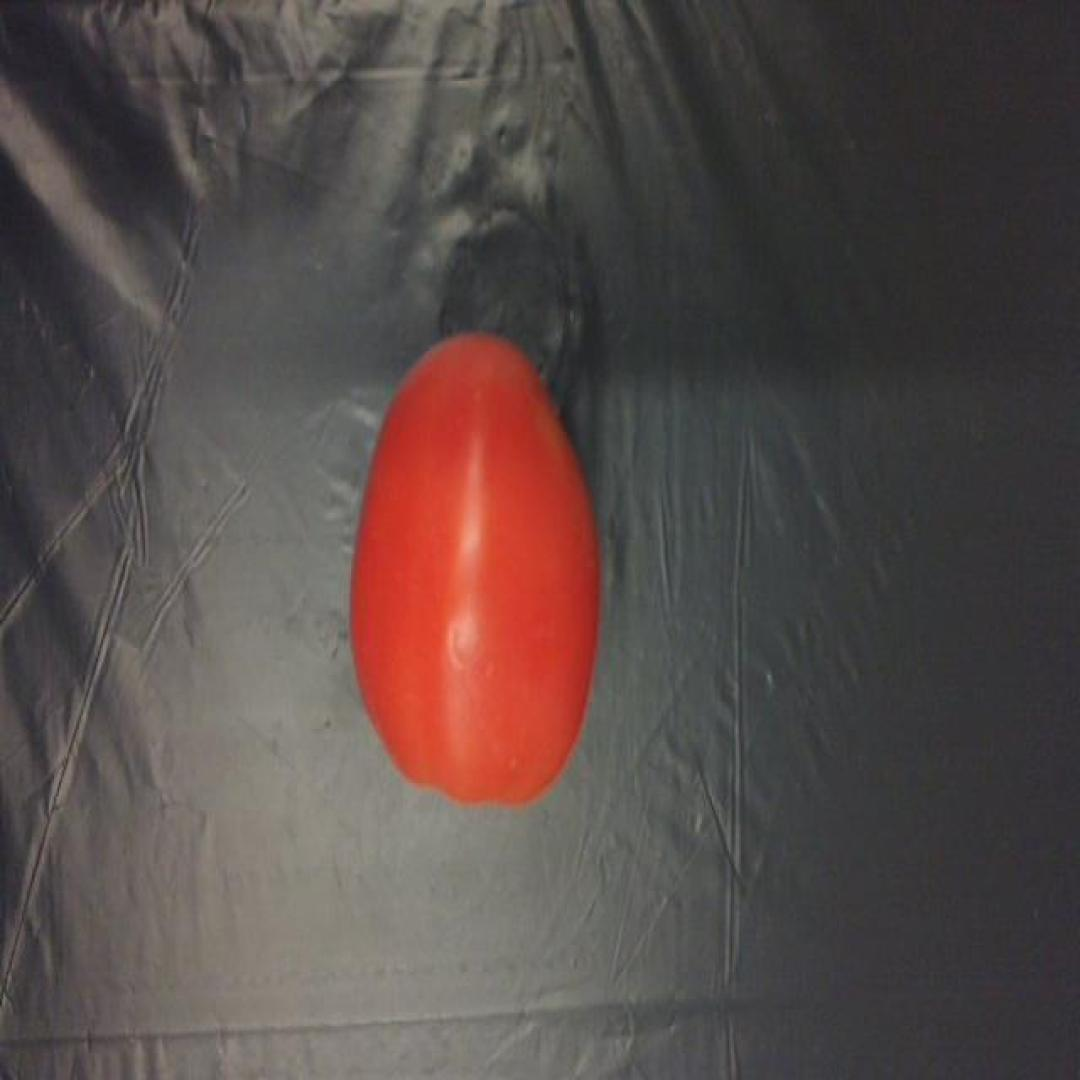matang: (346, 331, 599, 805)
